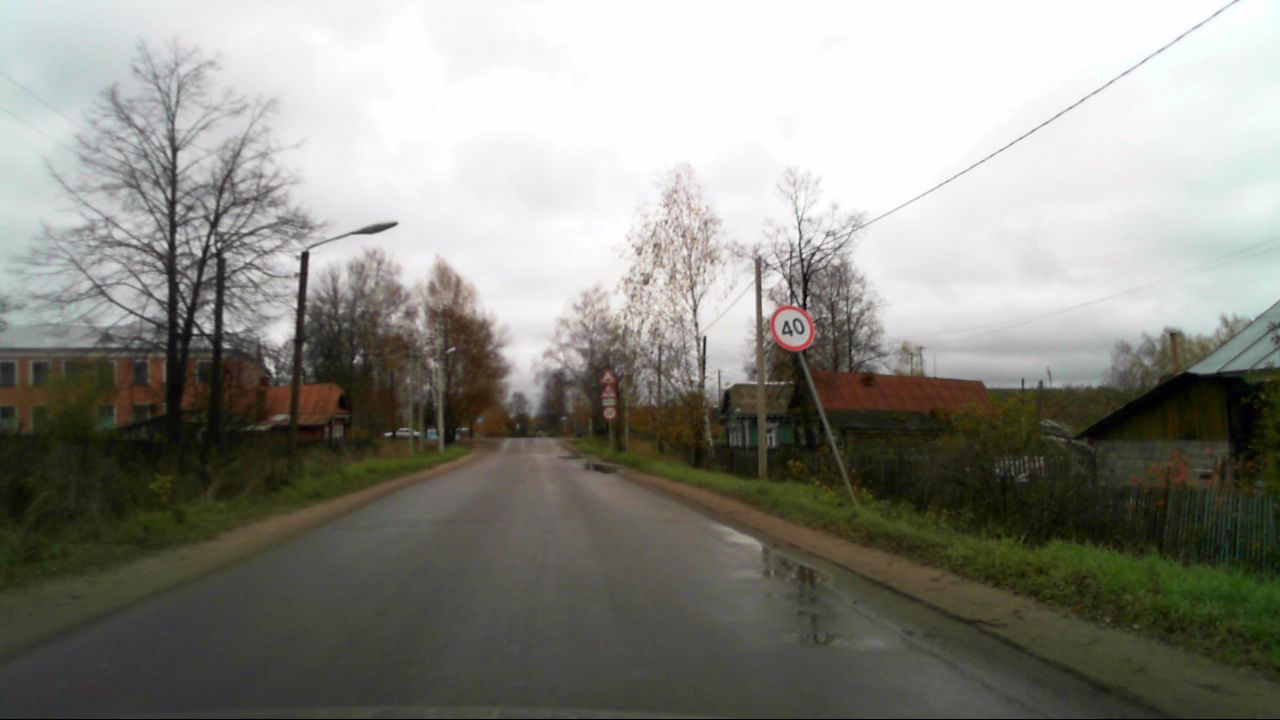speed_warning_40: (769, 305, 815, 353)
